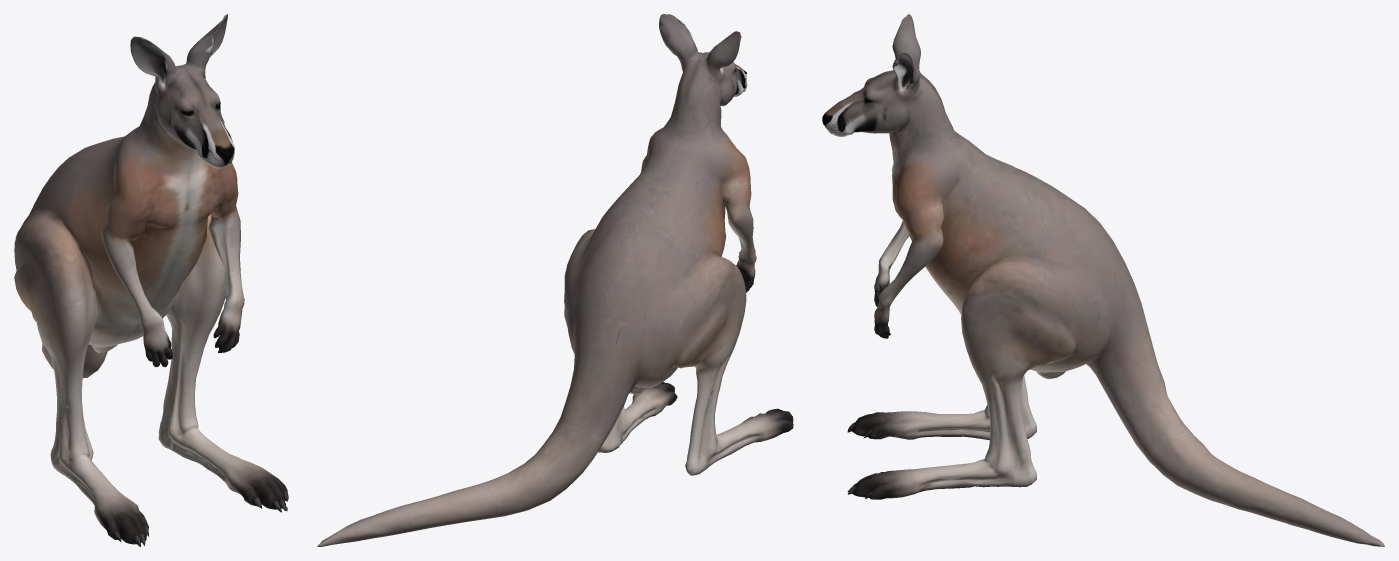
File: kangaroo-koka.glb
The picture shows the model from 3 angles, left to right: view 1: azimuth 30°, elevation 25°; view 2: azimuth 150°, elevation 25°; view 3: azimuth 270°, elevation 25°; orthographic projection. The views are drawn at different scales.
Parts seen in each view (by area): view 1: geometry_0; view 2: geometry_0; view 3: geometry_0.
Boxes of the visible parts, left/top/right/bottom form: geometry_0: left=14, top=14, right=288, bottom=546; geometry_0: left=317, top=14, right=793, bottom=546; geometry_0: left=822, top=14, right=1384, bottom=546.
Bounding box in the file's own units: 0.4951 × 0.7988 × 0.9448.
Materials: 1 (1 with a texture image).
